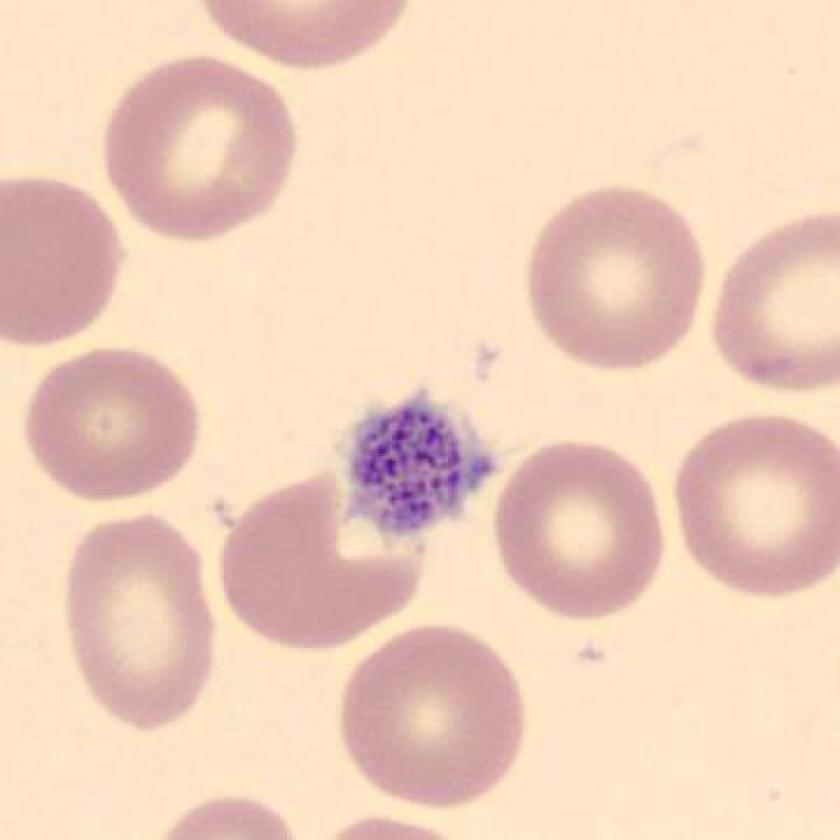platelets: (335, 387, 498, 552)
